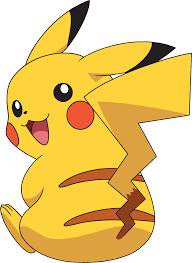Pikachu: (0, 0, 191, 263)
